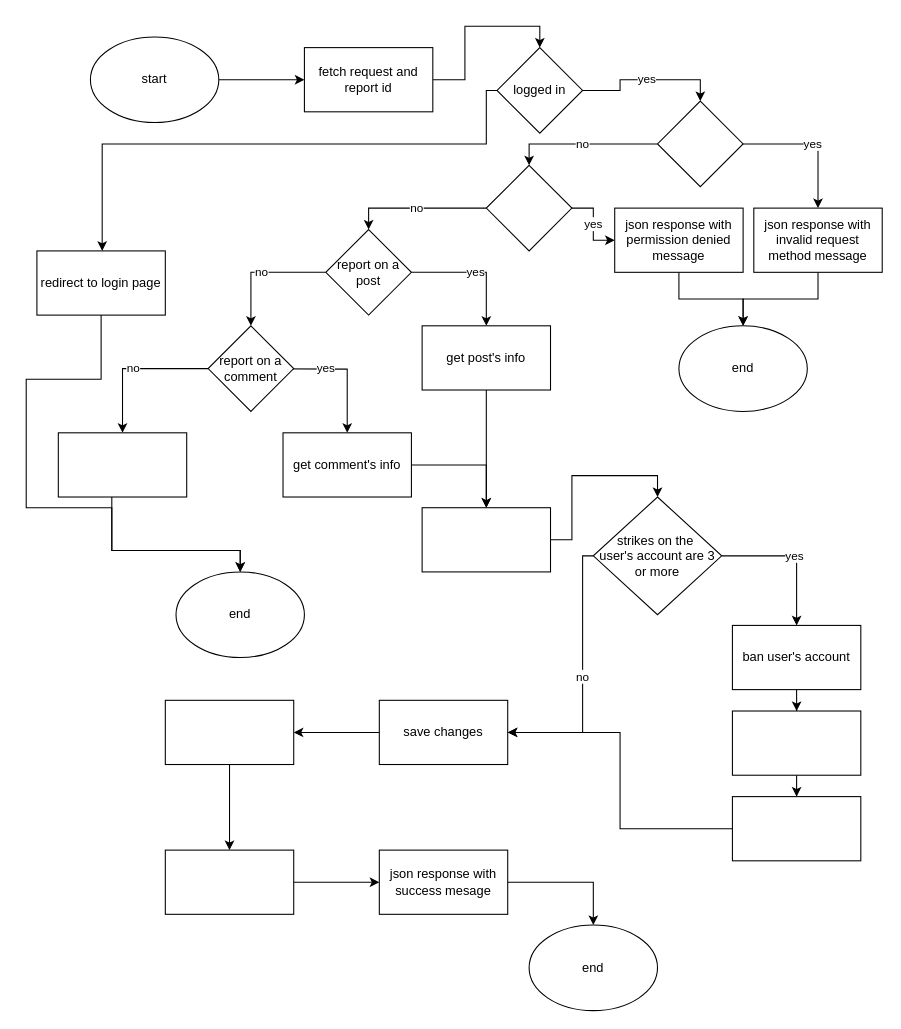
This 901x1029 diagram has some shape labels left out. Here are the shapes that lost their labels. From the top down, the box of each, then its label:
(656, 100, 743, 187): request is not post
(485, 164, 572, 251): user is not an admin
(57, 432, 187, 497): json response with invalid report message
(421, 507, 551, 572): add a strike on the users account
(164, 699, 294, 765): send a notification to the user's account
(731, 710, 861, 775): reset strikes count
(731, 796, 861, 861): send message telling the user they have been banned
(164, 849, 294, 914): delete the report from the database
